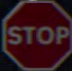Stop: (4, 3, 69, 63)
